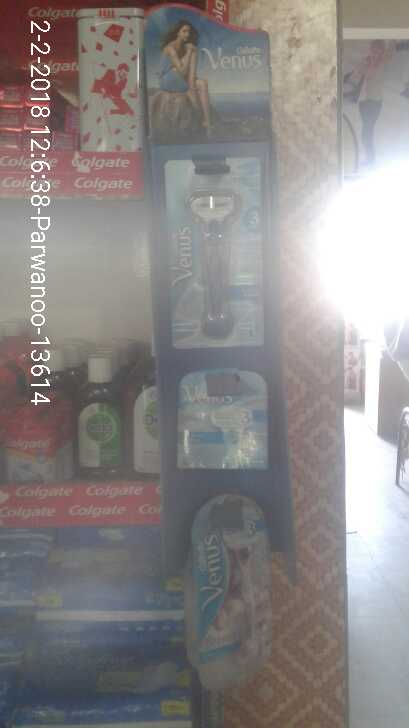venus: (177, 489, 295, 698), (159, 159, 265, 356), (178, 366, 270, 475)
